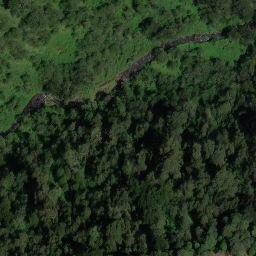forest: (1, 137, 256, 256), (181, 60, 256, 137), (42, 107, 181, 138), (74, 1, 124, 83), (116, 83, 181, 107), (198, 1, 256, 23), (23, 1, 50, 45), (40, 64, 77, 95)
